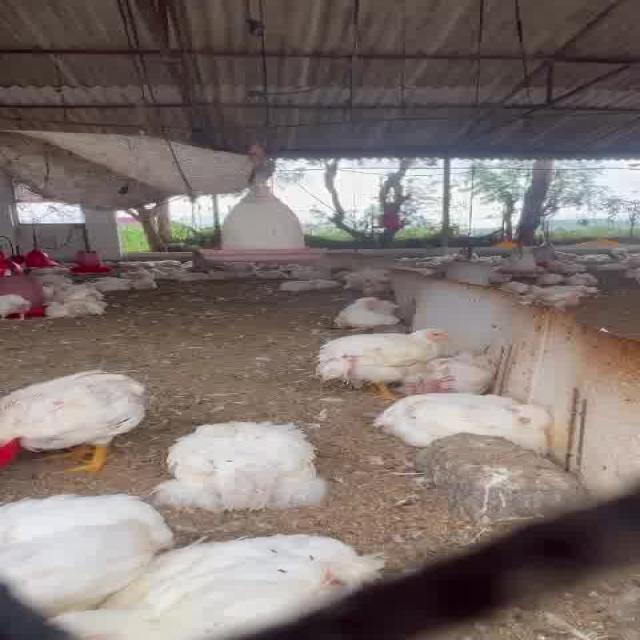AbNormal: (62, 532, 358, 632), (5, 492, 161, 596), (157, 417, 328, 509), (378, 391, 558, 451), (400, 350, 510, 396), (328, 296, 404, 326)
Normal: (0, 366, 148, 469), (312, 328, 456, 394)
